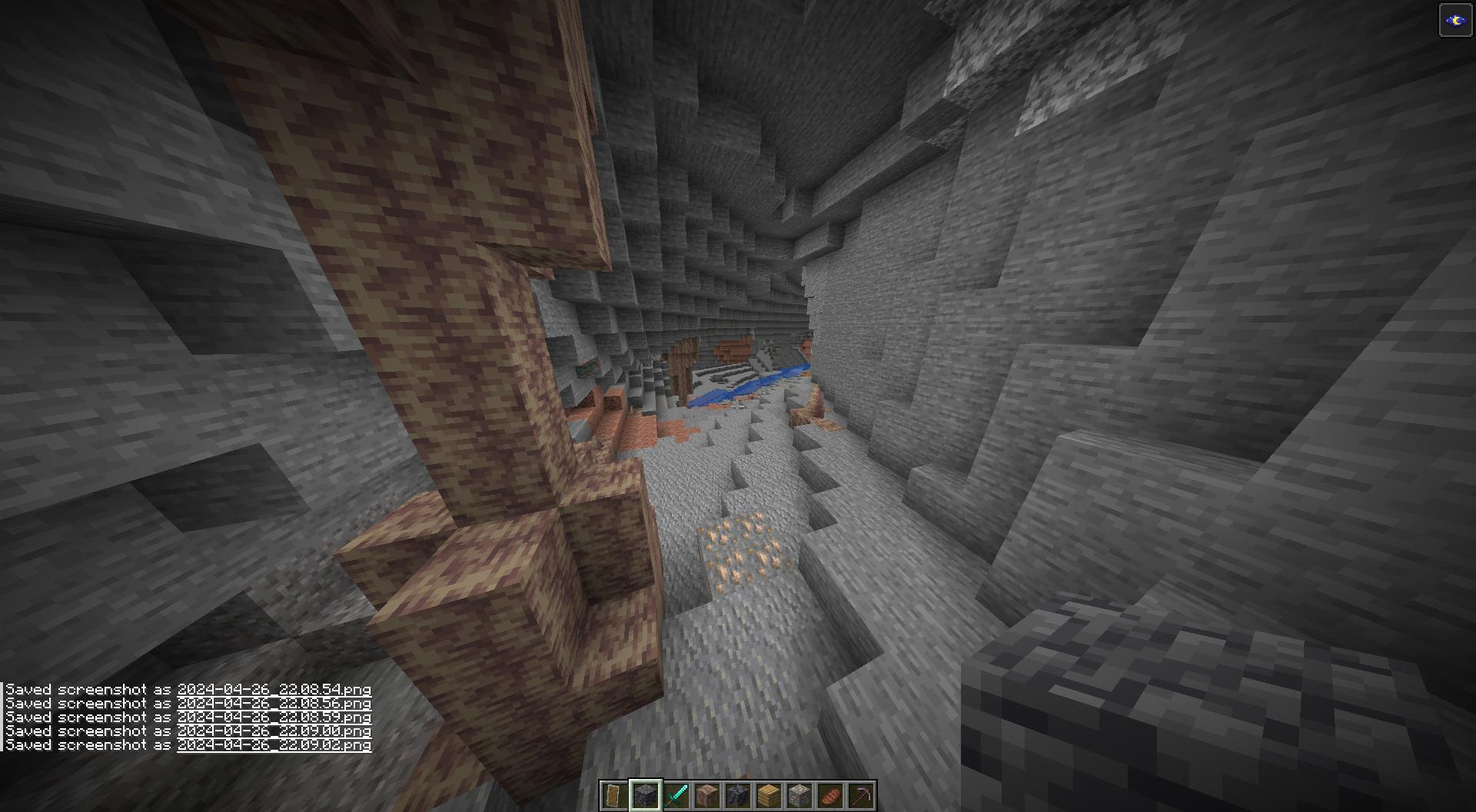iron ore: (701, 506, 789, 593)
